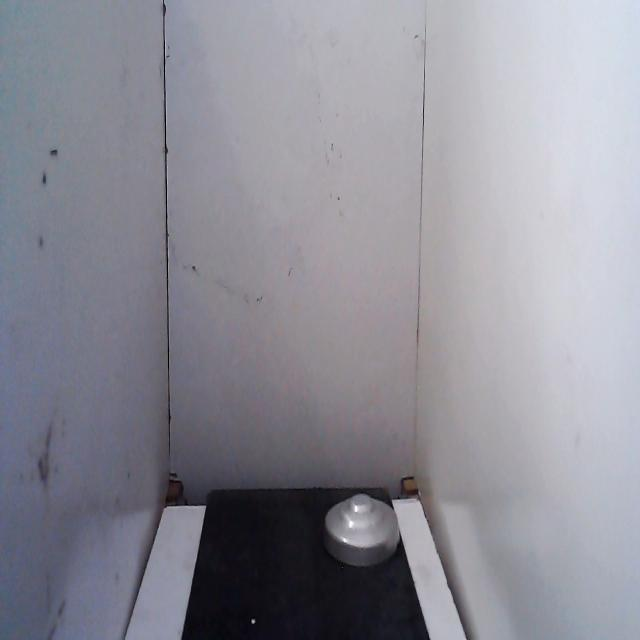metal: (314, 465, 411, 589)
